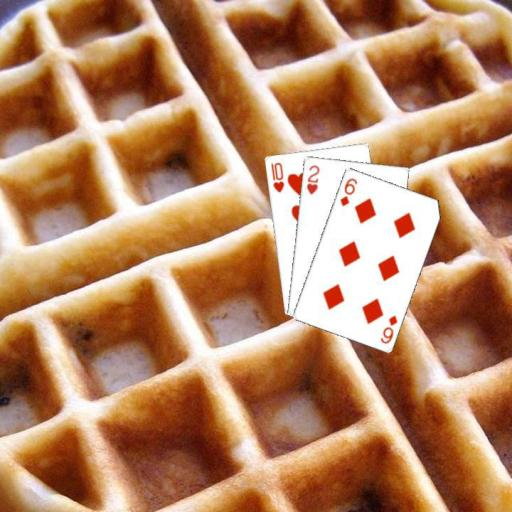10H: (268, 159, 286, 194)
2H: (303, 162, 321, 196)
6D: (377, 312, 399, 345), (337, 174, 358, 208)
